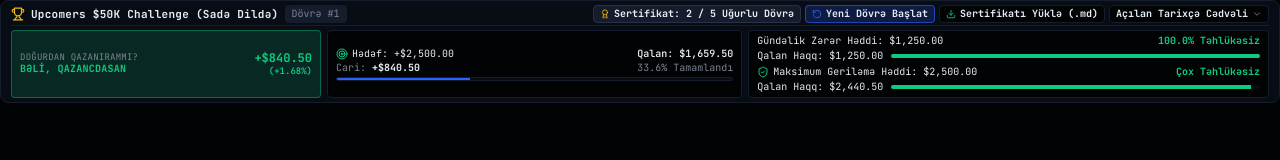
Test case: PropFirmChallengeHUD › controls propfirm-new-cycle-btn visibility, disabled states, click rollover, and inline error alert
Later steps or results of the test are not shown.
Click the button with test id "propfirm-new-cycle-btn": point(870, 14) [805, 5, 935, 23]
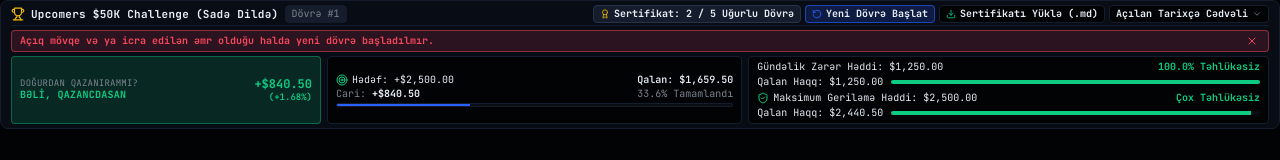
expect the message "Açıq mövqe və ya icra edilən əmr olduğu halda yeni dövrə başladılmır." is shown: met, box [11, 30, 1269, 52]
expect the message with test id "propfirm-new-cycle-error" shows "Açıq mövqe": met, box [20, 34, 434, 47]
expect the button named "Xətanı bağla" is shown: met
Click the button named "Xətanı bağla": point(1252, 41) [1244, 33, 1260, 49]
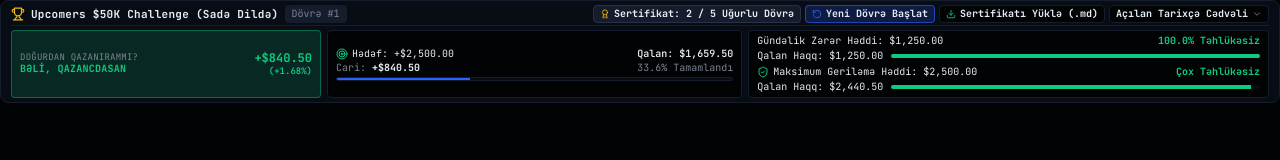
expect the message with test id "propfirm-new-cycle-error" is gone: met
